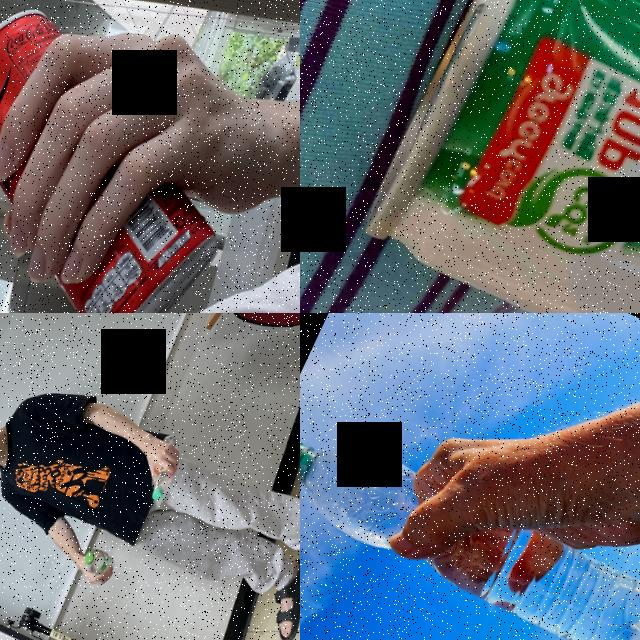bottle: (300, 408, 640, 640), (138, 428, 192, 504), (80, 545, 120, 582)
can: (354, 0, 640, 313), (0, 0, 278, 313)
